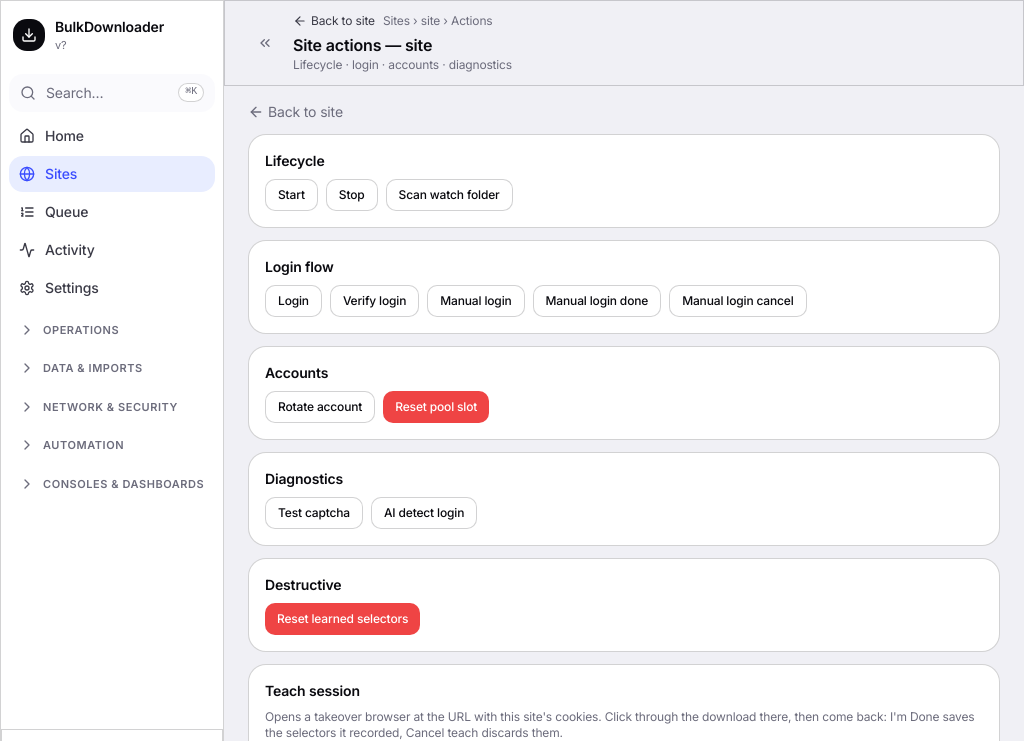
Test case: watch-folder scan action › names the folder and preserves successful summaries
Click the button "Scan watch folder". click: (449, 195)
box: [386,179,513,211]
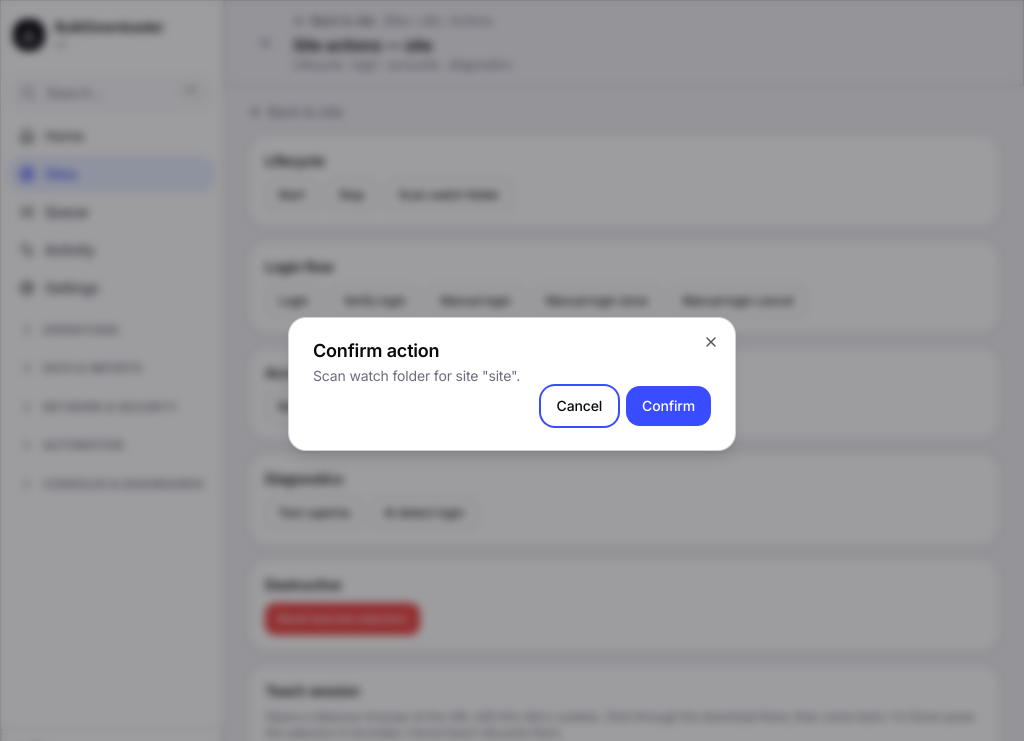
Click the button "Confirm". click: (669, 406)
box: [626,386,711,426]
(page scrolled)
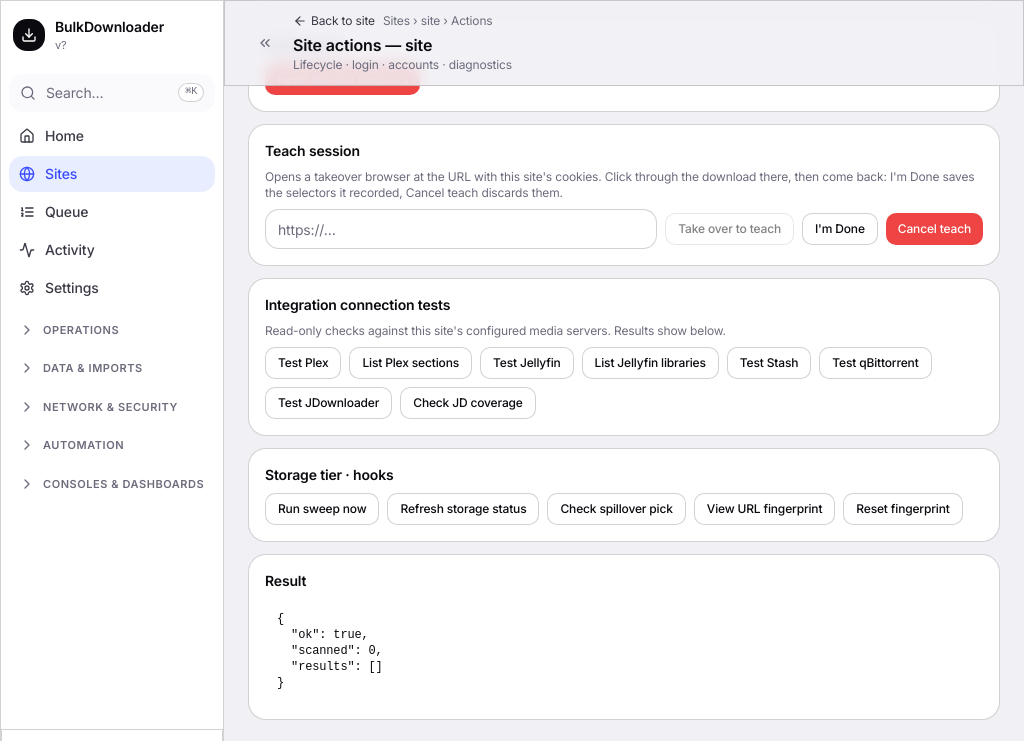
Check: the text "{ \"ok\": true, \"scanned\": 0, \"results\": [] }" is shown, box [277,612,383,690]
